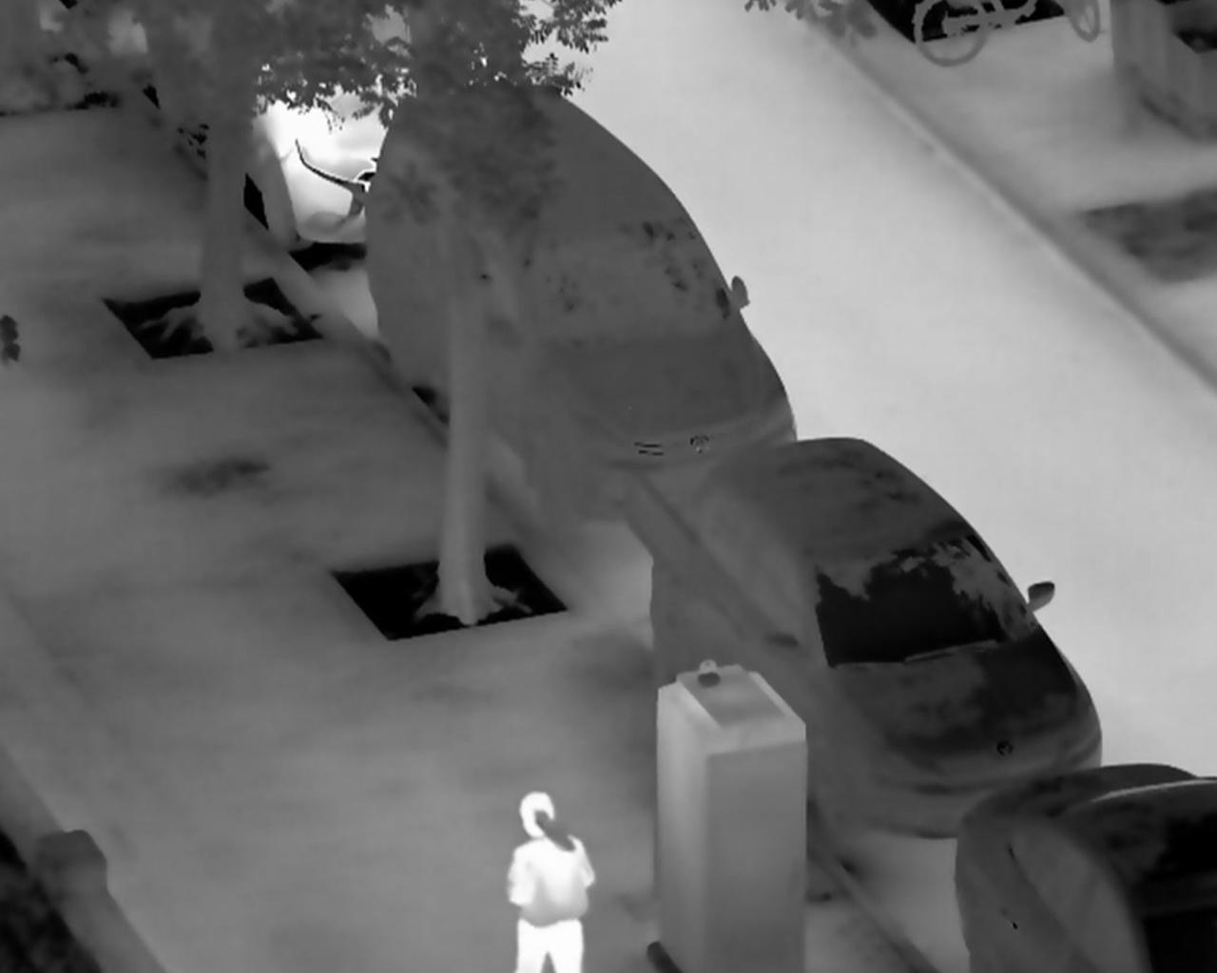person: (504, 787, 596, 973)
